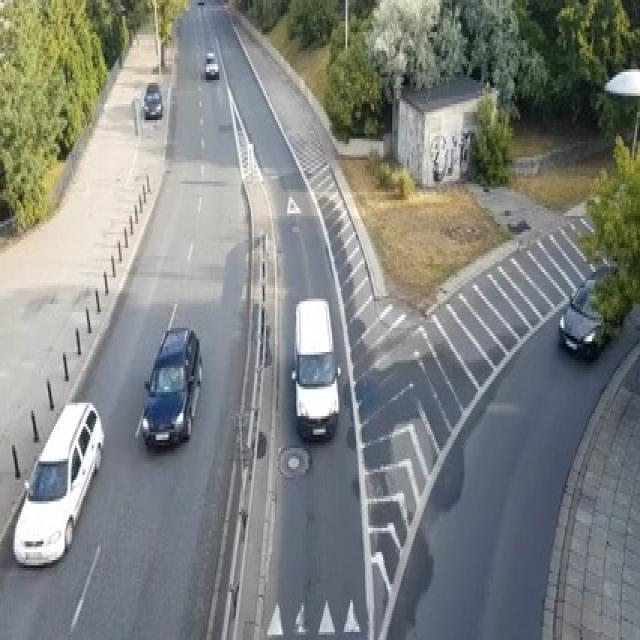car: (12, 400, 104, 568), (142, 325, 202, 448), (290, 296, 339, 440), (557, 262, 628, 358), (143, 83, 162, 117), (204, 51, 220, 77), (196, 0, 204, 5)
